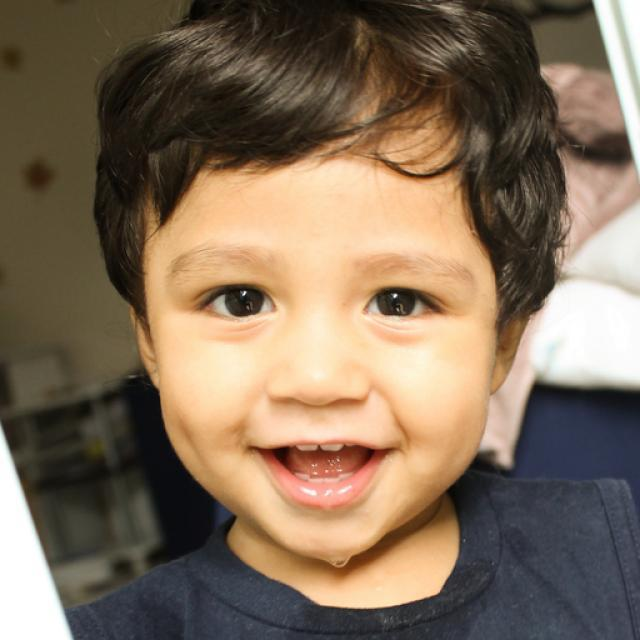happy: (151, 144, 495, 560)
